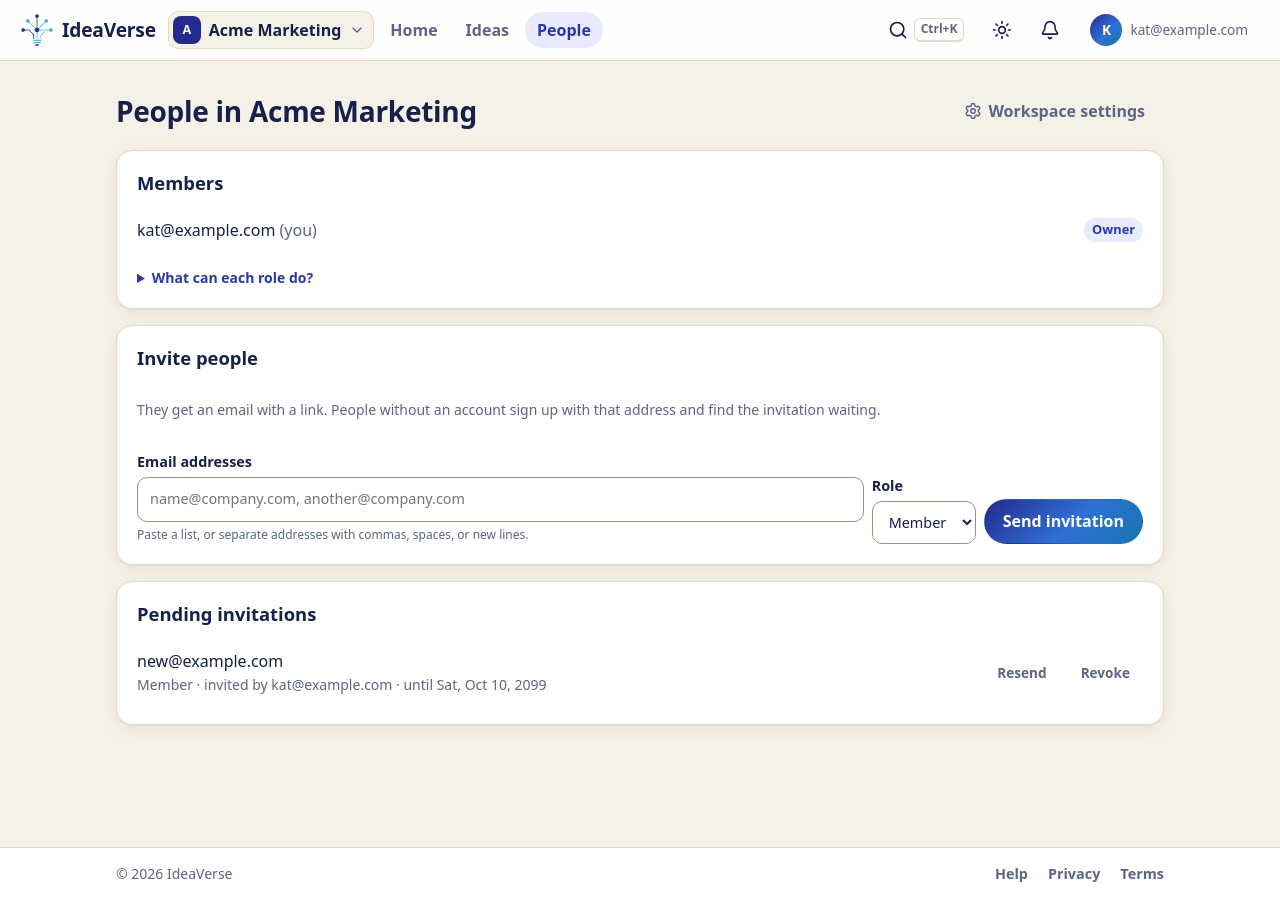
Test case: PeoplePage › lets an admin invite someone by email and role
The image size is (1280, 900).
Type "leo@example.com" into the field labelled "Email addresses".
click(500, 499); type("leo@example.com")  # box 144,484 -> 857,515
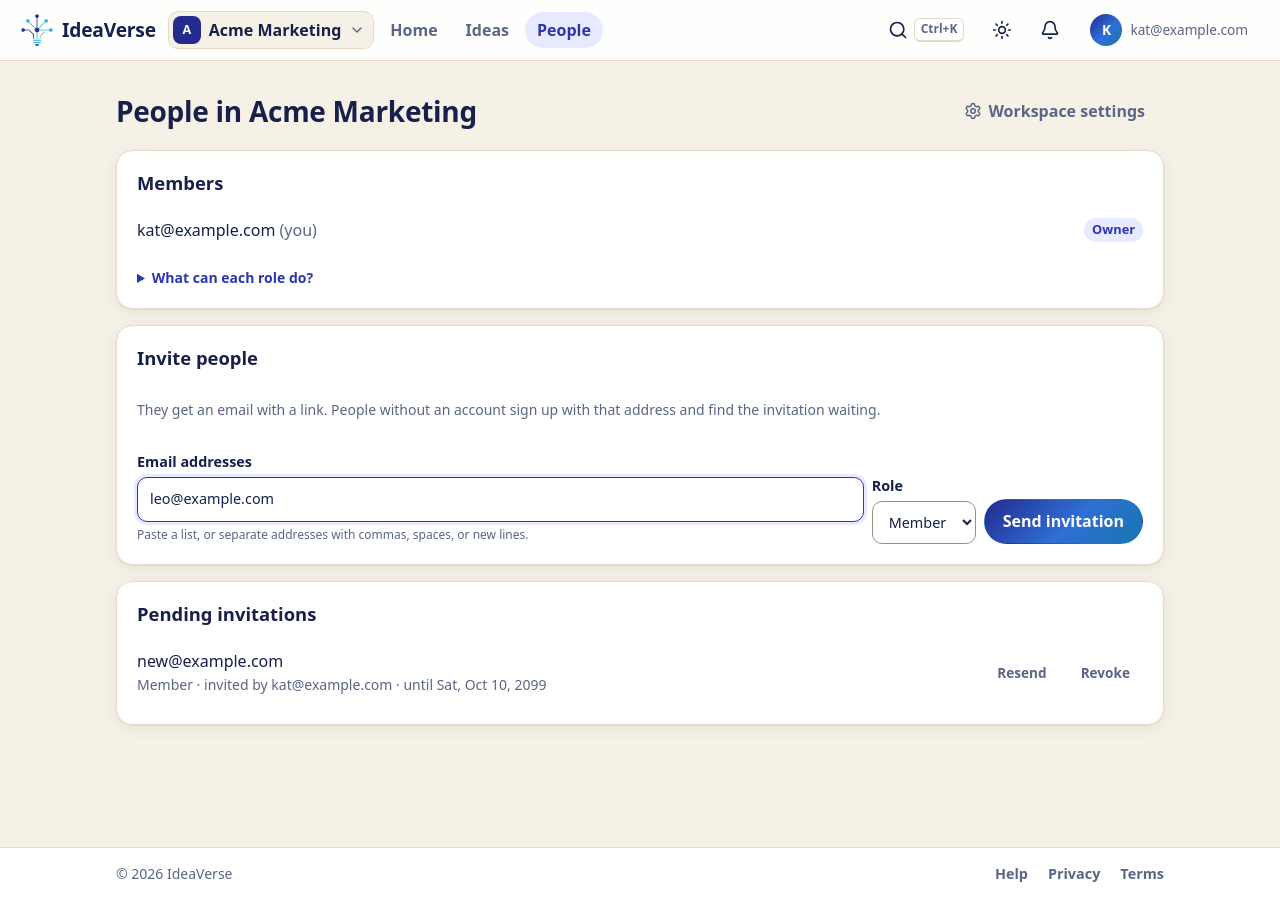
Select "Admin" in the dropdown labelled "Role" at coordinates (924, 523), box 872,501 -> 976,544
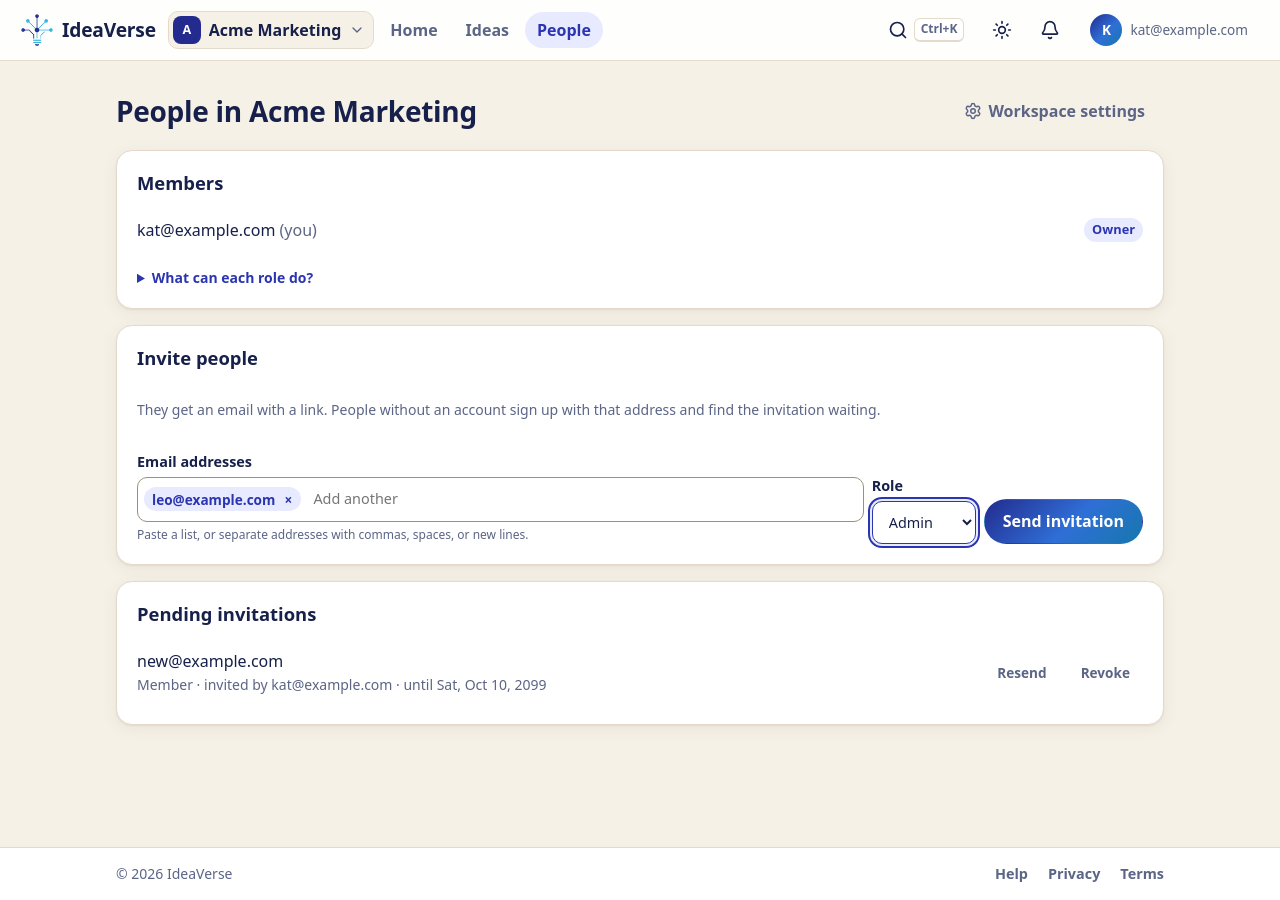
Click the button "Send invitation".
click(1063, 522)  # box 984,499 -> 1143,544
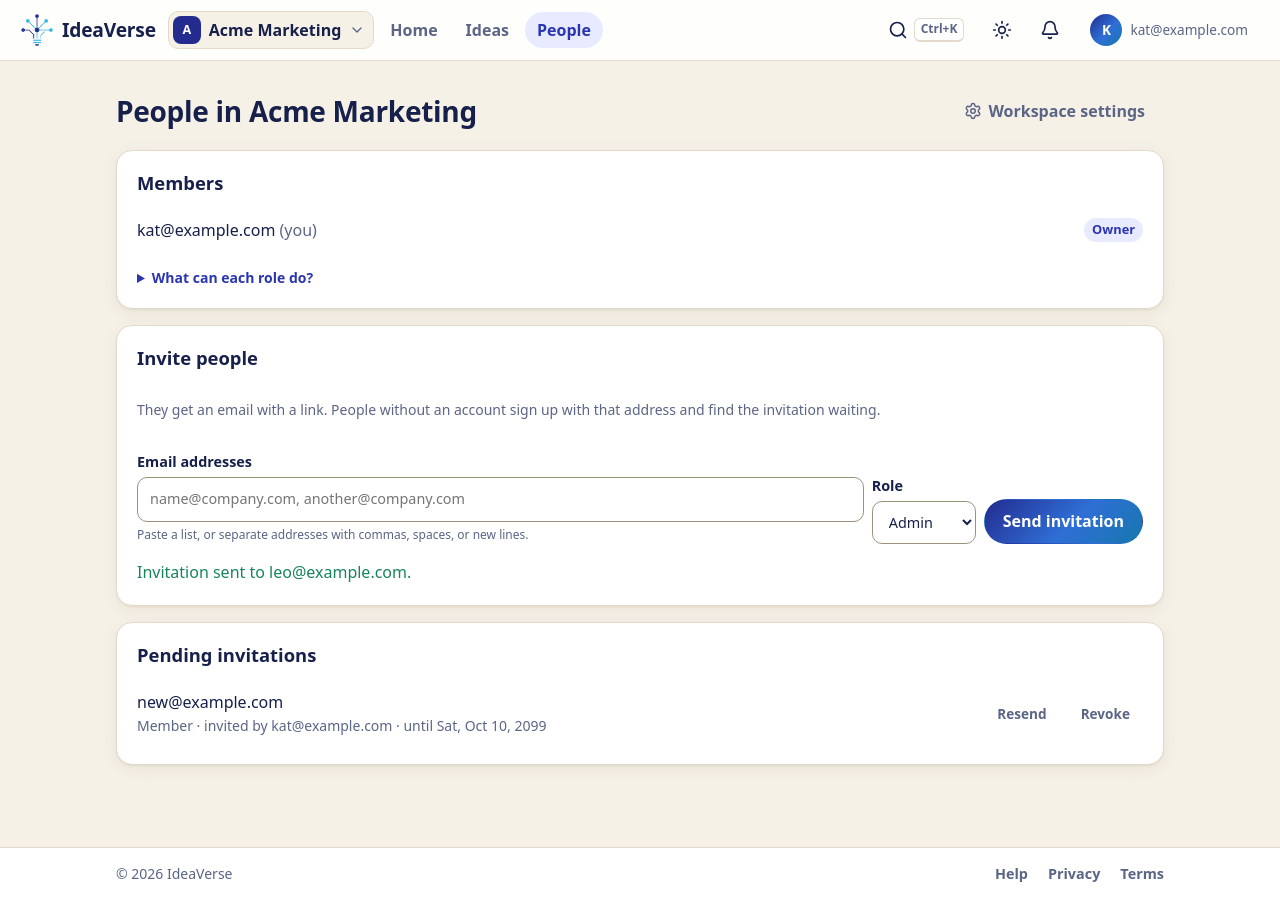
Expected: the message reads "Invitation sent to leo@example.com.", 137,561 -> 411,583
